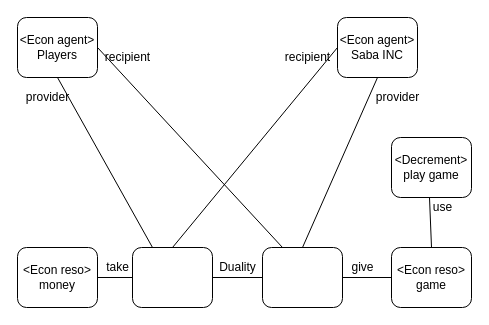
Some shapes in this 489 by 325 pixel diagram are drawn without their labels. Here are the shapes that lost their labels. From the top down, the box of each, then its label:
(132, 246, 212, 308): <Increment> Sales order
(262, 246, 342, 308): <Decrement> game delivery
